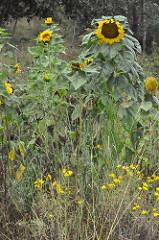sunflower: (96, 20, 124, 42), (38, 29, 51, 41)
